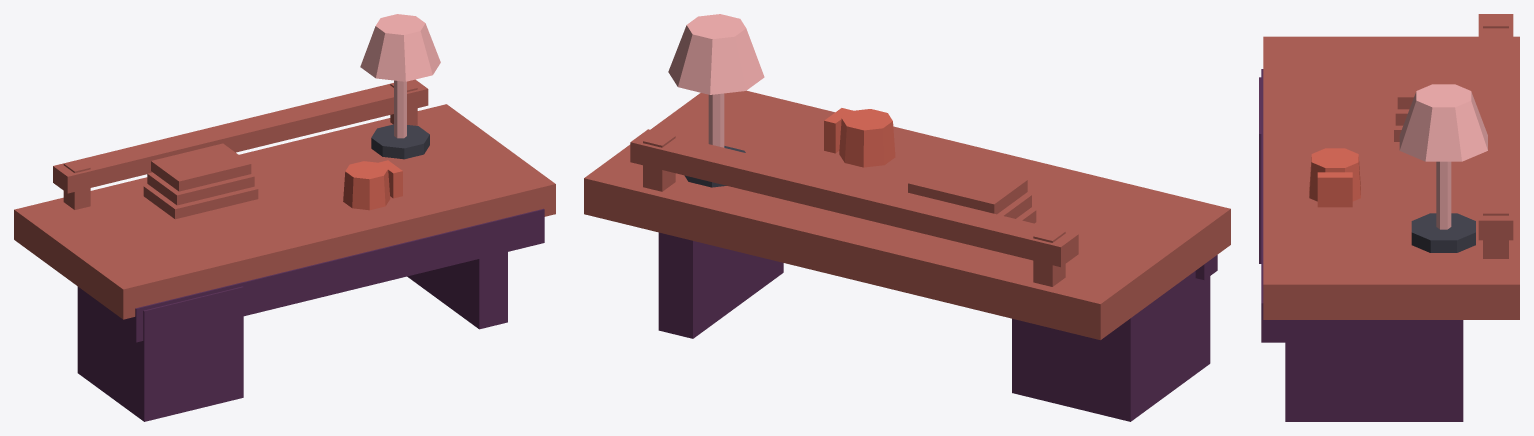
The model's file is desk-etjlollzbf.obj.
3 renders of one model, left to right at view 1: azimuth 30°, elevation 25°; view 2: azimuth 150°, elevation 25°; view 3: azimuth 270°, elevation 25°, orthographic. The views are drawn at different scales.
Parts seen in each view (by area): view 1: soft-chunky-desktop, left-storage-block, warm-front-apron, rear-cozy-shelf, right-trestle-panel, faceted-lamp-shade, cozy-book-3, round-mug-body, cozy-book-1, cozy-book-2, soft-lamp-base, warm-lamp-neck (+2 smaller); view 2: soft-chunky-desktop, left-storage-block, rear-cozy-shelf, right-trestle-panel, faceted-lamp-shade, cozy-book-3, round-mug-body, left-shelf-post, right-shelf-post, warm-lamp-neck, chunky-mug-handle; view 3: soft-chunky-desktop, right-trestle-panel, rear-cozy-shelf, faceted-lamp-shade, cozy-book-3, soft-lamp-base, round-mug-body, warm-front-apron, chunky-mug-handle, warm-lamp-neck, right-shelf-post, left-storage-block (+2 smaller).
Boxes of the visible parts, left/top/right/bottom form: soft-chunky-desktop: left=14, top=104, right=555, bottom=319; left-storage-block: left=77, top=286, right=243, bottom=421; warm-front-apron: left=125, top=208, right=544, bottom=342; rear-cozy-shelf: left=53, top=79, right=428, bottom=193; right-trestle-panel: left=407, top=252, right=507, bottom=329; faceted-lamp-shade: left=360, top=14, right=440, bottom=81; cozy-book-3: left=151, top=143, right=251, bottom=191; round-mug-body: left=343, top=161, right=390, bottom=210; cozy-book-1: left=143, top=185, right=258, bottom=219; cozy-book-2: left=147, top=172, right=254, bottom=205; soft-lamp-base: left=371, top=124, right=429, bottom=159; warm-lamp-neck: left=394, top=80, right=406, bottom=138; soft-chunky-desktop: left=584, top=90, right=1230, bottom=340; left-storage-block: left=1012, top=271, right=1210, bottom=421; rear-cozy-shelf: left=630, top=129, right=1078, bottom=267; right-trestle-panel: left=658, top=232, right=783, bottom=338; faceted-lamp-shade: left=668, top=14, right=764, bottom=94; cozy-book-3: left=908, top=159, right=1027, bottom=214; round-mug-body: left=839, top=109, right=895, bottom=167; left-shelf-post: left=1033, top=227, right=1065, bottom=286; right-shelf-post: left=643, top=131, right=675, bottom=191; warm-lamp-neck: left=708, top=93, right=724, bottom=147; chunky-mug-handle: left=824, top=108, right=852, bottom=153; soft-chunky-desktop: left=1263, top=36, right=1519, bottom=319; right-trestle-panel: left=1285, top=320, right=1463, bottom=421; rear-cozy-shelf: left=1478, top=14, right=1513, bottom=240; faceted-lamp-shade: left=1399, top=84, right=1487, bottom=161; cozy-book-3: left=1397, top=56, right=1463, bottom=109; soft-lamp-base: left=1411, top=213, right=1475, bottom=252; round-mug-body: left=1309, top=148, right=1360, bottom=201; warm-front-apron: left=1261, top=69, right=1287, bottom=342; chunky-mug-handle: left=1317, top=172, right=1352, bottom=207; warm-lamp-neck: left=1436, top=161, right=1451, bottom=229; right-shelf-post: left=1483, top=204, right=1508, bottom=258; left-storage-block: left=1259, top=77, right=1261, bottom=263.
Bounding box in the file's own units: 2.7 × 1.54 × 1.2.
